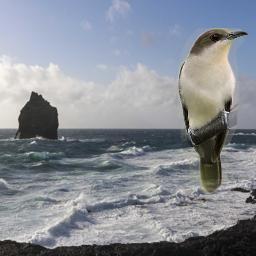Cuckoo: (178, 28, 249, 196)
